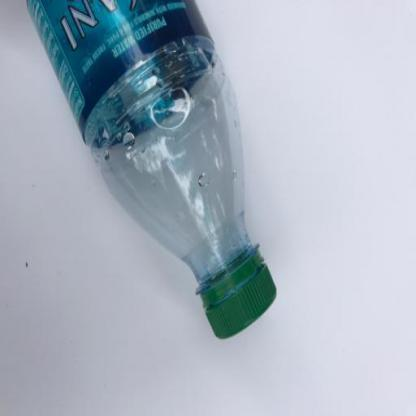Plastic: (24, 1, 279, 343)
